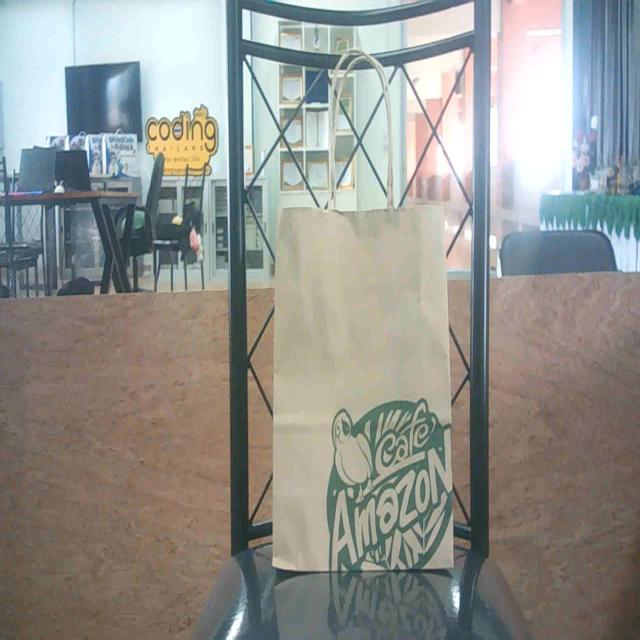bag: (275, 218, 451, 572)
